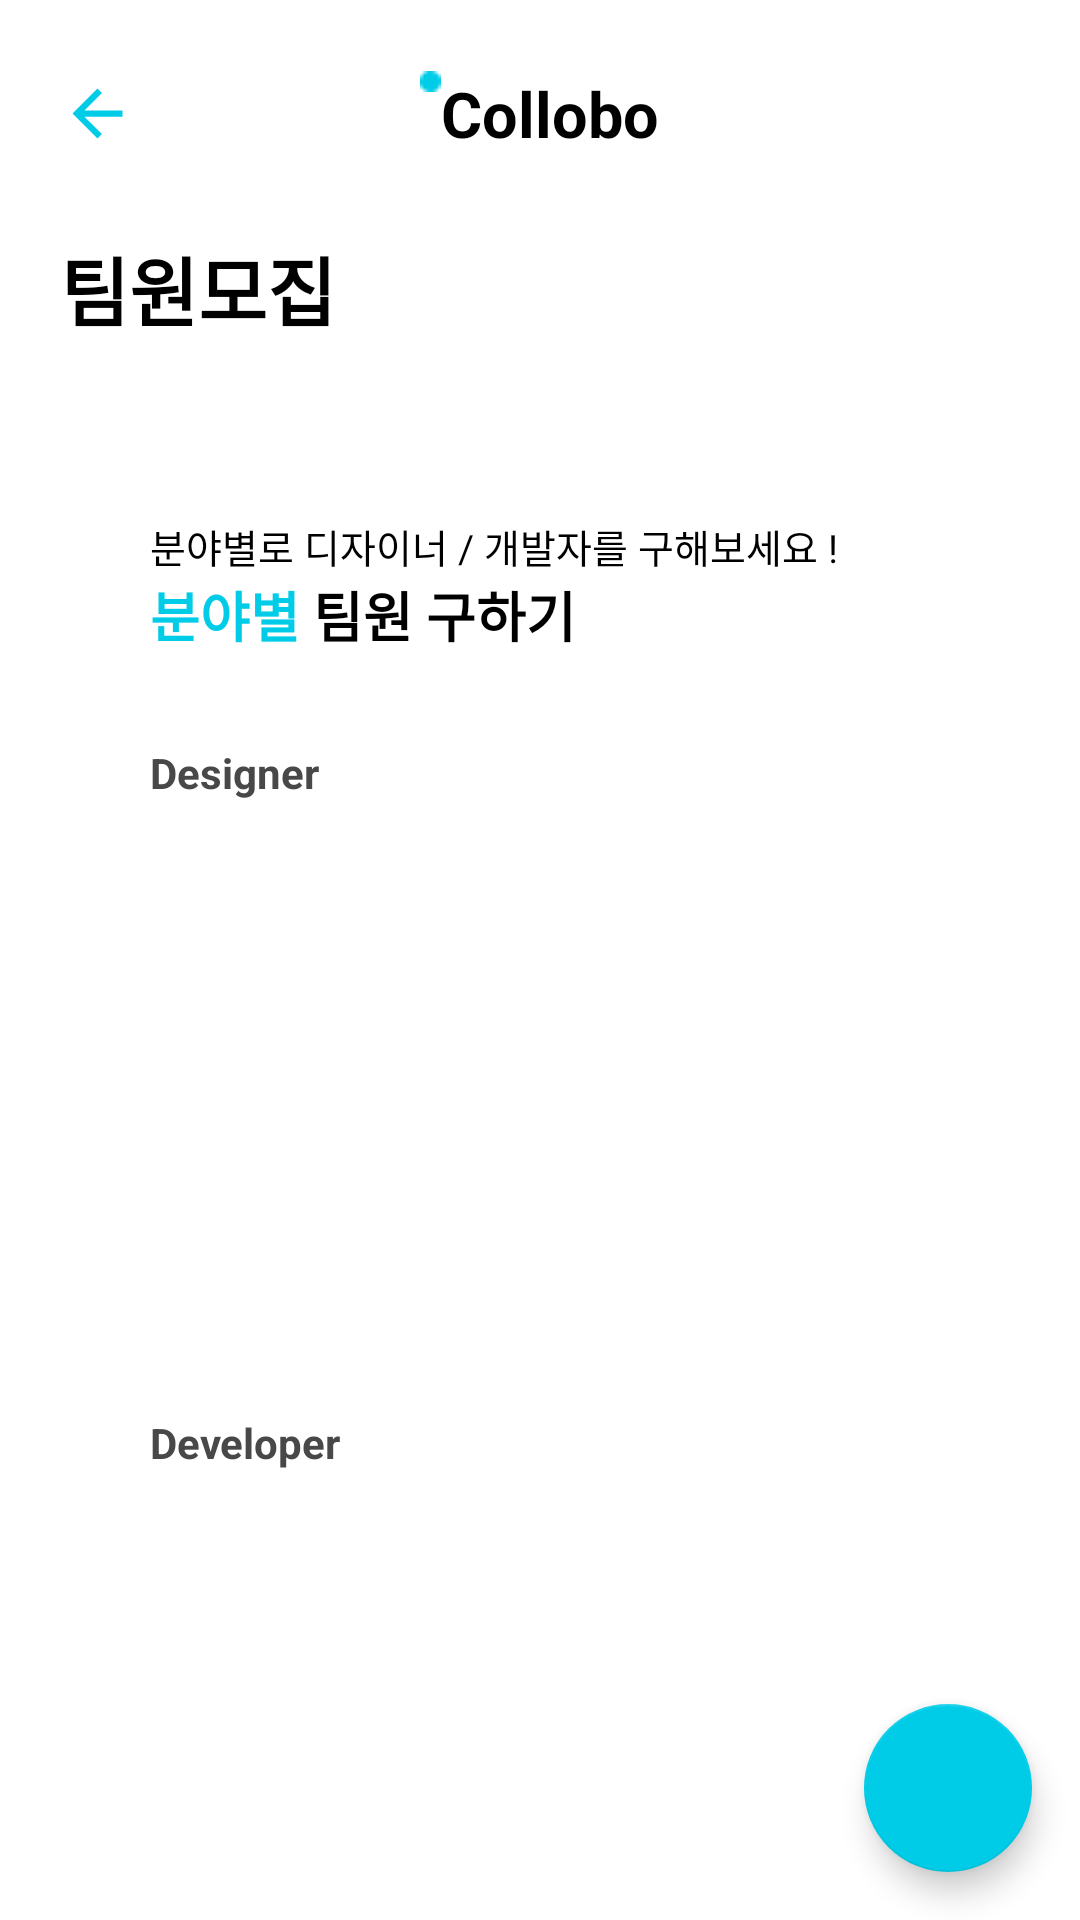

Icon click points for this 1080px x 1920px phone screenshot, format [x,y]:
create back: [97,113]
